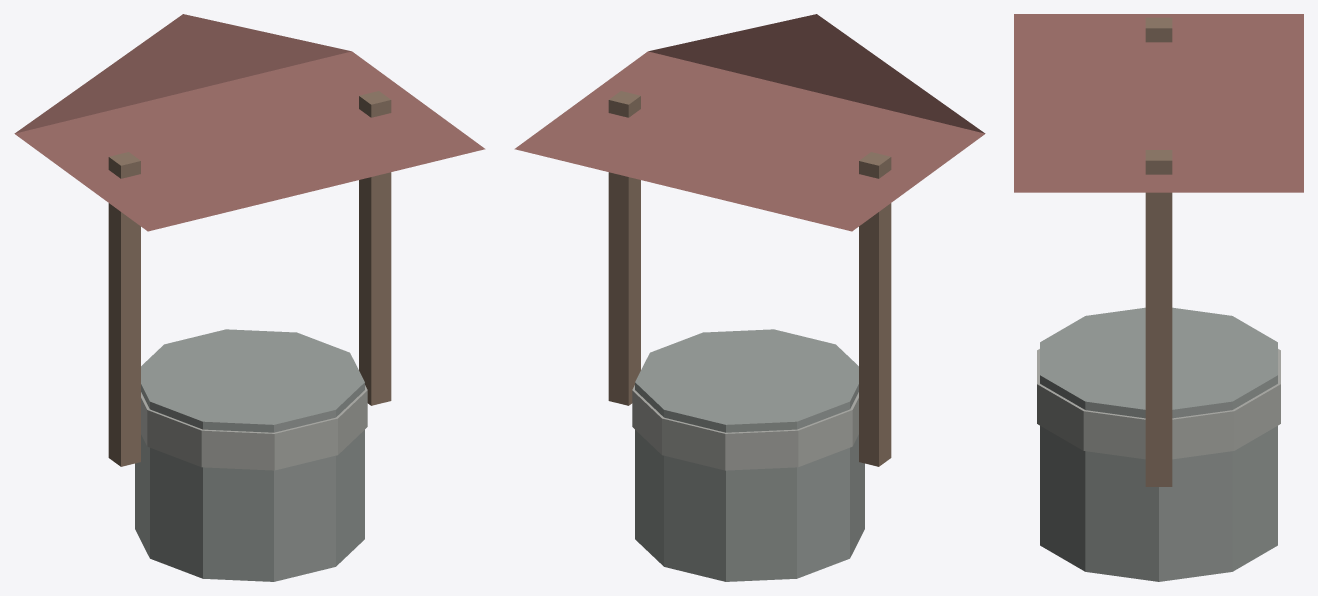
The model's file is poco.glb.
3 views of the same model, side by side, from view 1: azimuth 30°, elevation 25°; view 2: azimuth 150°, elevation 25°; view 3: azimuth 270°, elevation 25° (orthographic). The views are drawn at different scales.
Parts seen in each view (by area): view 1: part_004, part_000, part_002, part_001, part_003; view 2: part_004, part_000, part_002, part_001, part_003; view 3: part_004, part_000, part_001, part_003, part_002.
Part boxes in pixels (left/top/right/bottom): part_004: left=14, top=14, right=485, bottom=231; part_000: left=135, top=329, right=364, bottom=581; part_002: left=108, top=152, right=140, bottom=466; part_001: left=141, top=385, right=367, bottom=470; part_003: left=359, top=91, right=391, bottom=405; part_004: left=514, top=14, right=985, bottom=231; part_000: left=635, top=329, right=864, bottom=581; part_002: left=859, top=152, right=891, bottom=466; part_001: left=632, top=385, right=858, bottom=470; part_003: left=608, top=91, right=640, bottom=405; part_004: left=1014, top=14, right=1303, bottom=192; part_000: left=1040, top=307, right=1277, bottom=581; part_001: left=1037, top=349, right=1280, bottom=459; part_003: left=1145, top=150, right=1172, bottom=486; part_002: left=1145, top=17, right=1172, bottom=42.
Size of the model in its own units: 2.7 by 3.6 by 1.85.
